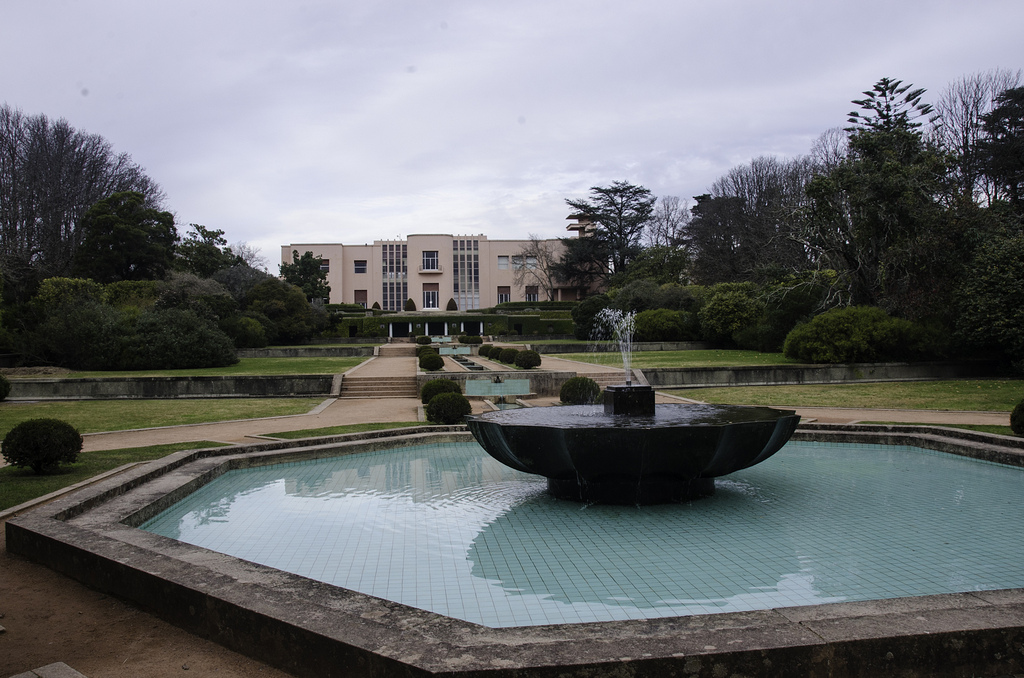serralves: (283, 232, 596, 315)
